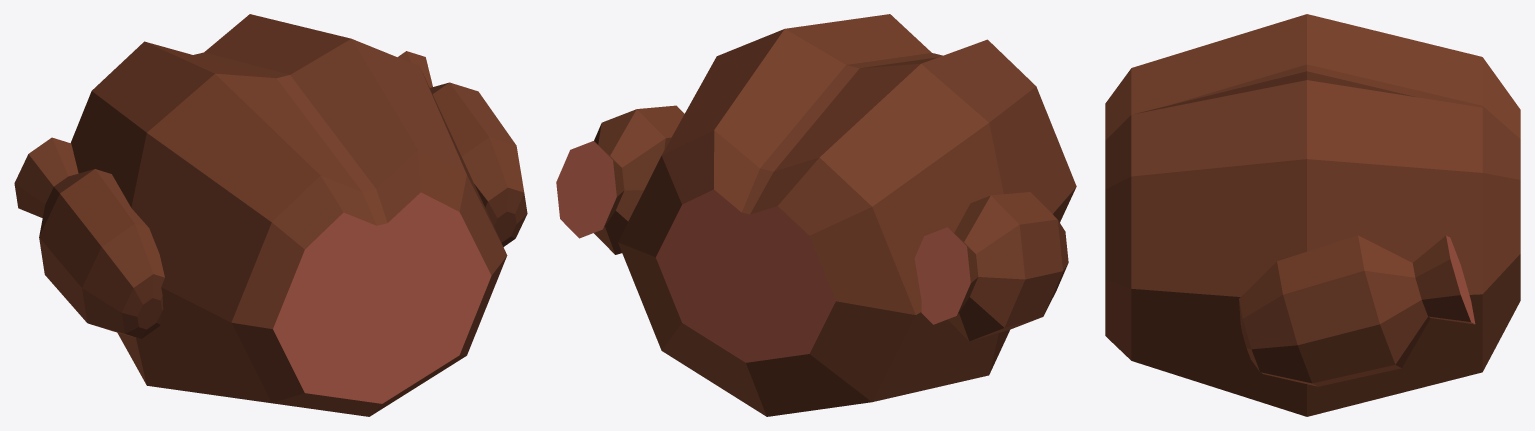
Rendered from ChickenMeat.fbx.
3 views of the same model, side by side, from view 1: azimuth 30°, elevation 25°; view 2: azimuth 150°, elevation 25°; view 3: azimuth 270°, elevation 25° (orthographic). The views are drawn at different scales.
Visible parts, largest first — view 1: ChickenMeat; view 2: ChickenMeat; view 3: ChickenMeat.
Part boxes in pixels (bbox=[...]): ChickenMeat: bbox=[14, 14, 527, 416]; ChickenMeat: bbox=[556, 14, 1076, 416]; ChickenMeat: bbox=[1105, 14, 1520, 416].
Bounding box in the file's own units: 84.87 × 63.7 × 67.31.
